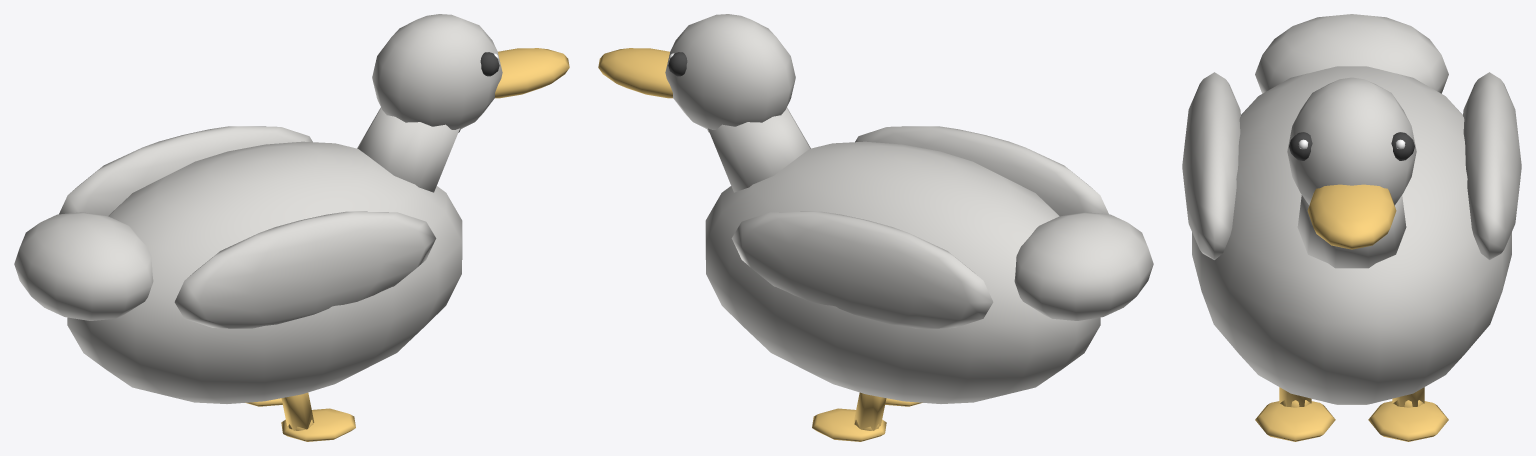
Rendered from duck.glb.
3 views of the same model, side by side, from view 1: azimuth 30°, elevation 25°; view 2: azimuth 150°, elevation 25°; view 3: azimuth 270°, elevation 25° (orthographic). The views are drawn at different scales.
Visible parts, largest first — view 1: e.006, e.010, e, e.014; view 2: e.006, e.014, e, e.010; view 3: e.006, e, e.010, e.014.
Part boxes in pixels (x1=…): e.006: x1=14, y1=107, x2=462, y2=441; e.010: x1=174, y1=211, x2=436, y2=328; e: x1=372, y1=14, x2=569, y2=129; e.014: x1=59, y1=126, x2=312, y2=216; e.006: x1=705, y1=107, x2=1153, y2=441; e.014: x1=731, y1=211, x2=993, y2=328; e: x1=598, y1=14, x2=795, y2=129; e.010: x1=855, y1=126, x2=1108, y2=216; e.006: x1=1192, y1=14, x2=1511, y2=441; e: x1=1287, y1=77, x2=1416, y2=249; e.010: x1=1182, y1=72, x2=1240, y2=259; e.014: x1=1463, y1=72, x2=1521, y2=259.
Size of the model in its own units: 0.91 by 0.58 by 0.42.
